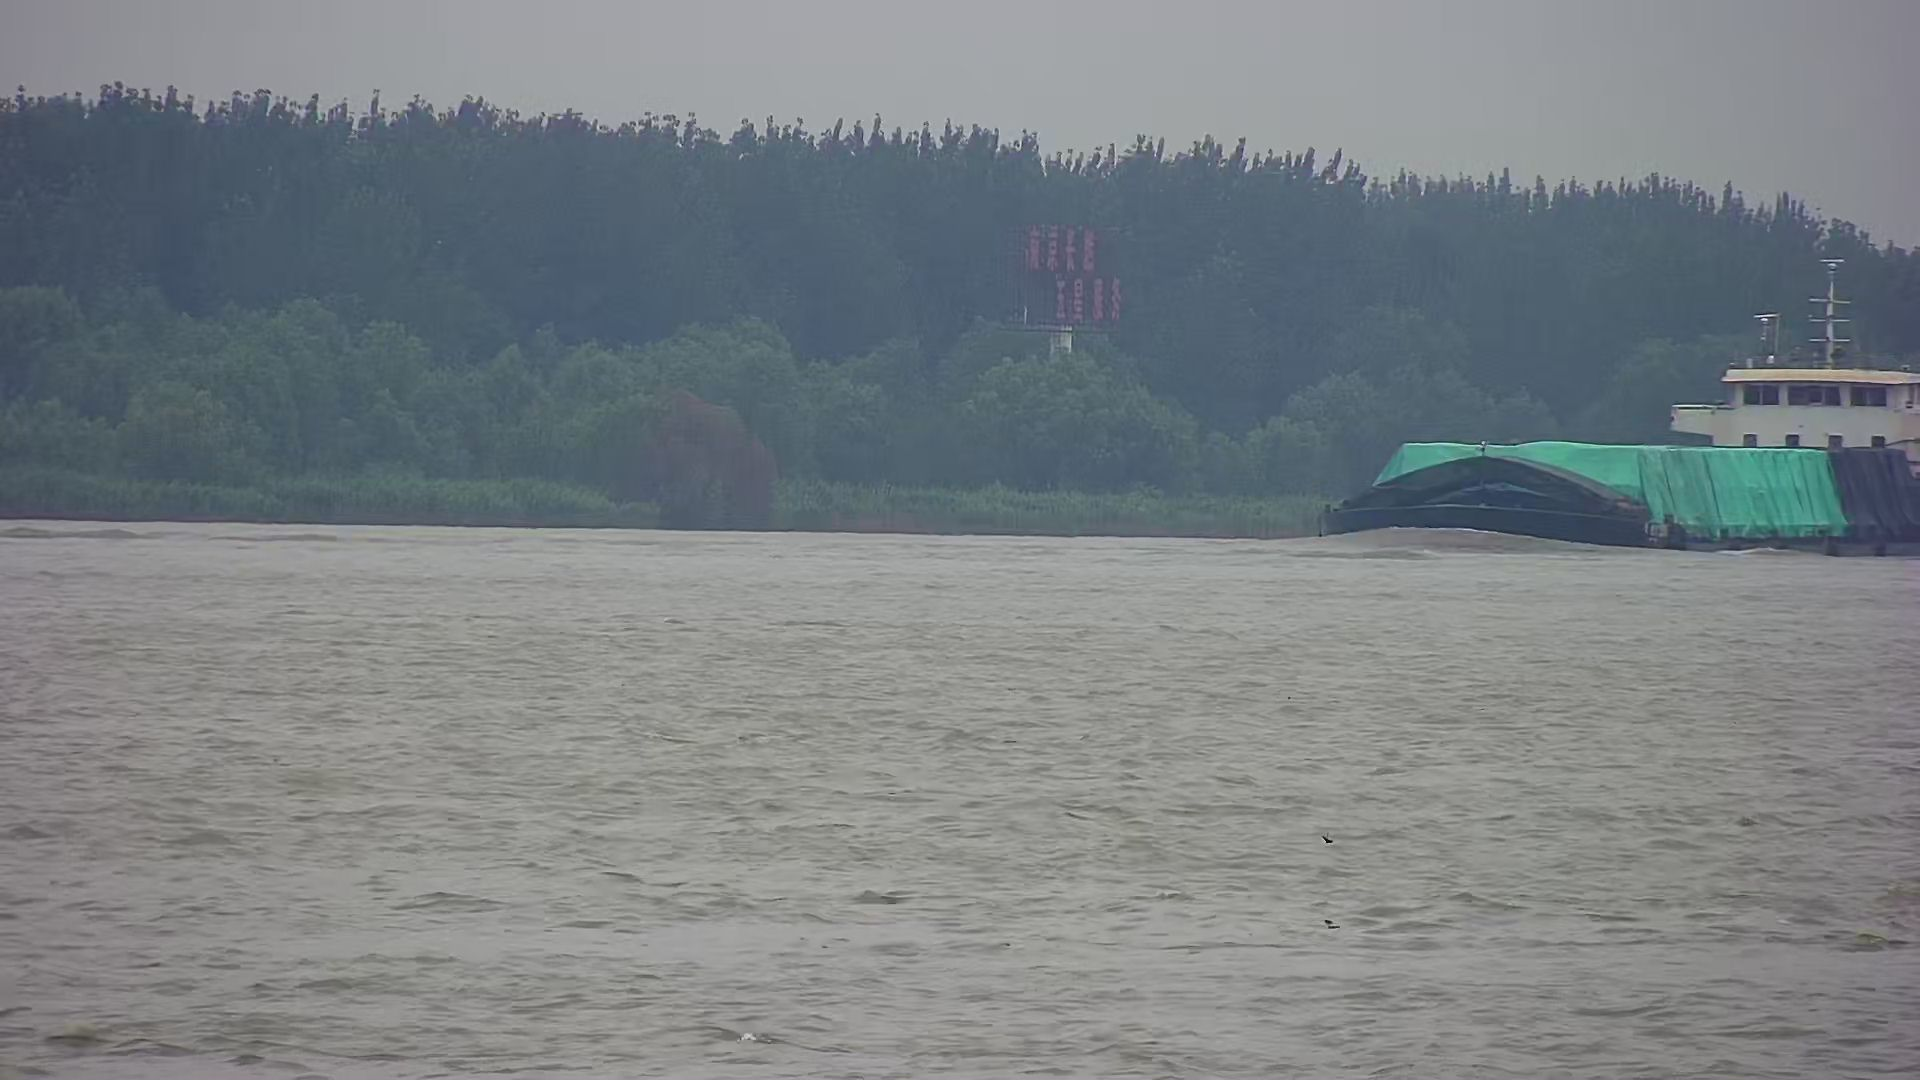ship: (1305, 249, 1920, 564)
